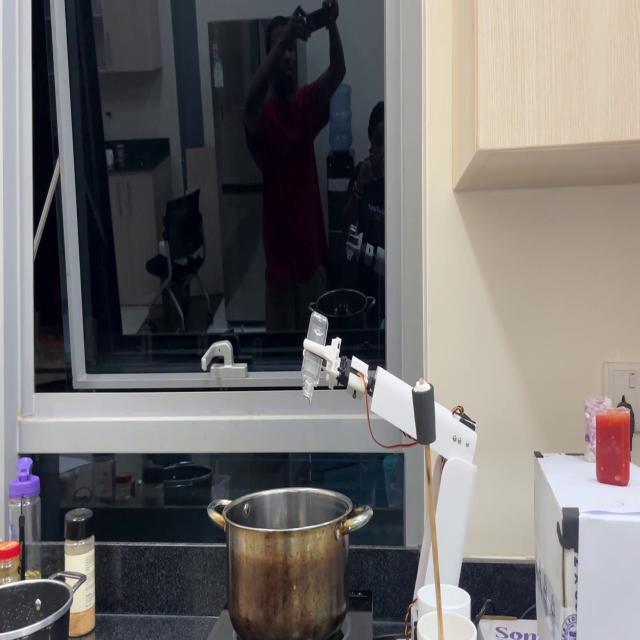blended_tomatoes_pepper: (596, 408, 633, 492)
cooking_pot: (210, 495, 377, 640), (0, 572, 82, 636)
spatula: (421, 397, 449, 640)
